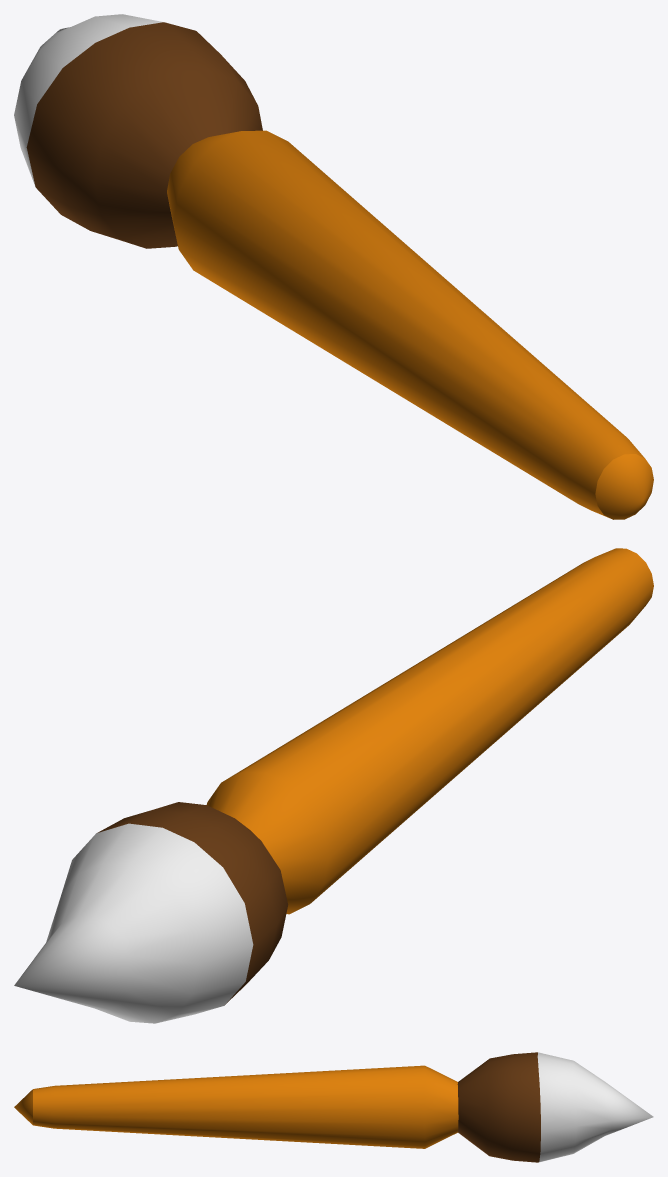
File: brush (6).fbx
3 renders of one model, top to bottom at view 1: azimuth 30°, elevation 25°; view 2: azimuth 150°, elevation 25°; view 3: azimuth 270°, elevation 25°, orthographic. The views are drawn at different scales.
Visible parts, largest first — view 1: Brush; view 2: Brush; view 3: Brush.
Boxes of the visible parts, <box> form: Brush: <box>14,14,653,519</box>; Brush: <box>14,548,653,1023</box>; Brush: <box>14,1052,653,1162</box>.
Size of the model in its own units: 27.95 by 151 by 25.85.
